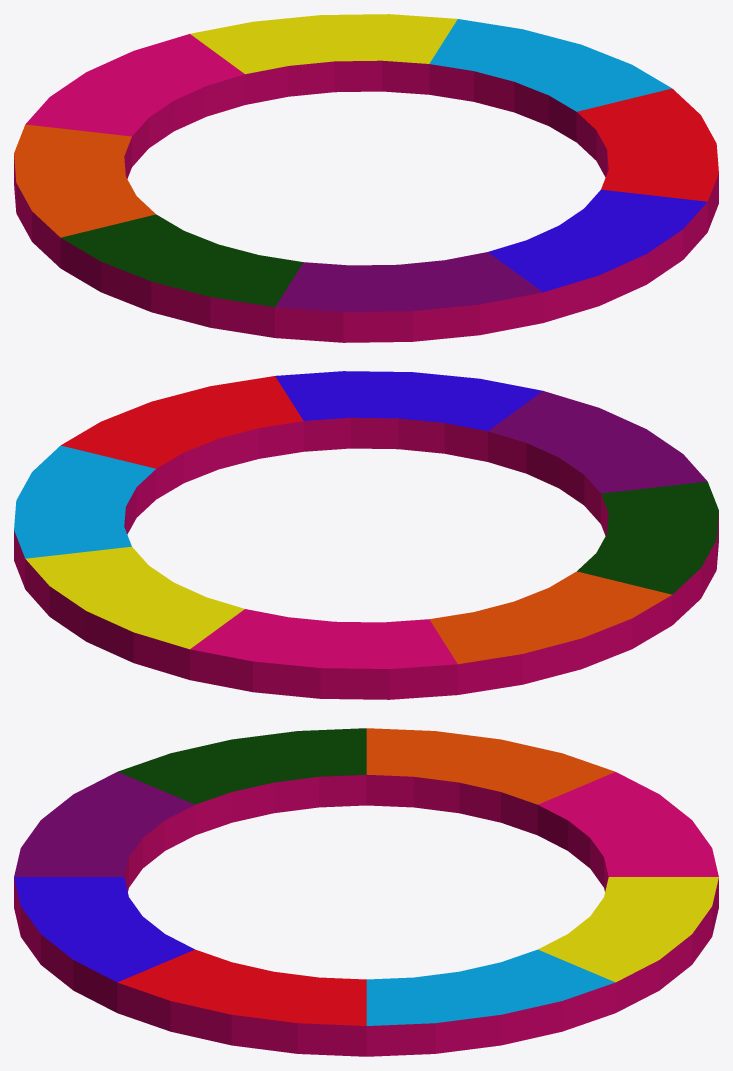
Rendered from spinnerDisk2.fbx.
3 views of the same model, one above another, from view 1: azimuth 30°, elevation 25°; view 2: azimuth 150°, elevation 25°; view 3: azimuth 270°, elevation 25° (orthographic).
Parts seen in each view (by area): view 1: Circle; view 2: Circle; view 3: Circle.
Boxes of the visible parts, <box> form: Circle: <box>14,14,718,342</box>; Circle: <box>14,371,718,699</box>; Circle: <box>14,728,718,1056</box>.
Size of the model in its own units: 200 by 9.61 by 200.
